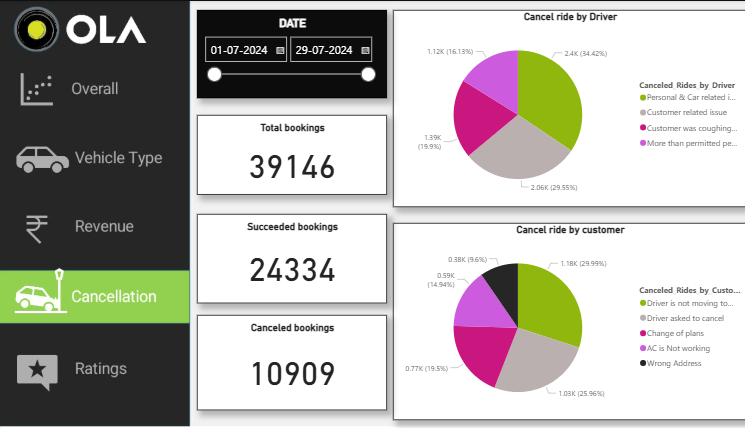

The page's visual inventory and layout, read from the dashboard file:
{"tool":"powerbi","page":{"name":"cancellation","canvas":[1280,720],"ordinal":3},"visuals":[{"type":"actionButton","box":[0,545.8,321.1,128.2],"z":0},{"type":"actionButton","box":[0,311,321.1,128.2],"z":1000},{"type":"actionButton","box":[0,97.9,321.1,128.2],"z":2000},{"type":"actionButton","box":[844.9,283.9,320.8,127.7],"z":3000},{"type":"pieChart","title":"Cancel ride by Driver","fields":{"Category":["July.Canceled_Rides_by_Driver"],"Y":["CountNonNull(July.Canceled_Rides_by_Driver)"]},"box":[663.5,16.8,594.6,330.9],"z":4000},{"type":"pieChart","title":"Cancel ride by customer","fields":{"Category":["July.Canceled_Rides_by_Customer"],"Y":["CountNonNull(July.Canceled_Rides_by_Customer)"]},"box":[663.5,374.6,594.6,330.9],"z":5000},{"type":"slicer","title":"DATE","fields":{"Values":["July.Date"]},"box":[334.3,16.8,319.2,147.8],"z":6000},{"type":"card","title":"Total bookings","fields":{"Values":["Count(July.Booking_ID)"]},"box":[334.3,193.2,319.2,134.4],"z":7000},{"type":"card","title":"Succeeded bookings","fields":{"Values":["Count(July.Booking_ID)"]},"box":[334.3,359.5,319.2,149.5],"z":8000},{"type":"card","title":"Canceled bookings","fields":{"Values":["Count(July.Booking_ID)"]},"box":[334.3,529.1,319.2,159.6],"z":9000}]}

Visuals, with their boxes in screenshot pixels (x1, y1, x2, y2), scaled from the page's 1280x720 canvas onto the 745x428 screenshot:
actionButton: box=[0, 324, 187, 401]
actionButton: box=[0, 185, 187, 261]
actionButton: box=[0, 58, 187, 134]
actionButton: box=[492, 169, 678, 245]
"Cancel ride by Driver" pieChart: box=[386, 10, 732, 207]
"Cancel ride by customer" pieChart: box=[386, 223, 732, 419]
"DATE" slicer: box=[195, 10, 380, 98]
"Total bookings" card: box=[195, 115, 380, 195]
"Succeeded bookings" card: box=[195, 214, 380, 303]
"Canceled bookings" card: box=[195, 315, 380, 409]
